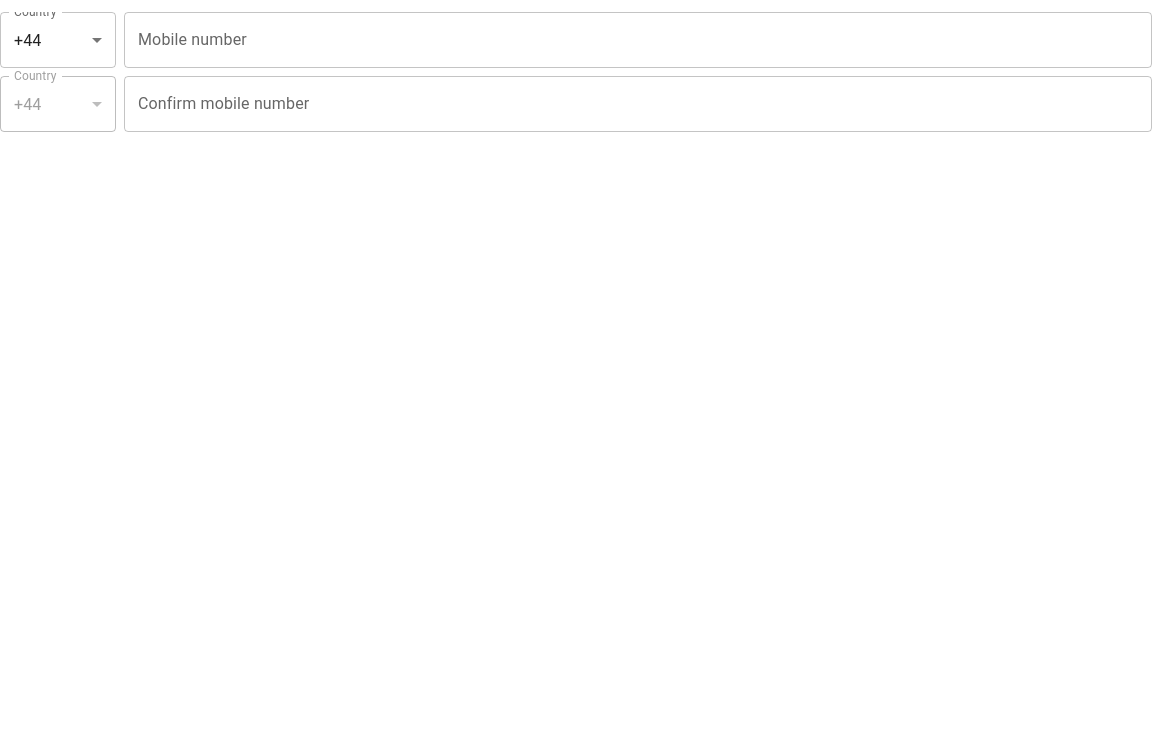
Test: PhoneField — confirm › follows a change of country code, so only the national number is retyped
This screenshot has width=1164, height=732.
Click the dropdown named "Country code for mobile number" at {"x": 28, "y": 40}, box x1=14 y1=30 x2=42 y2=50
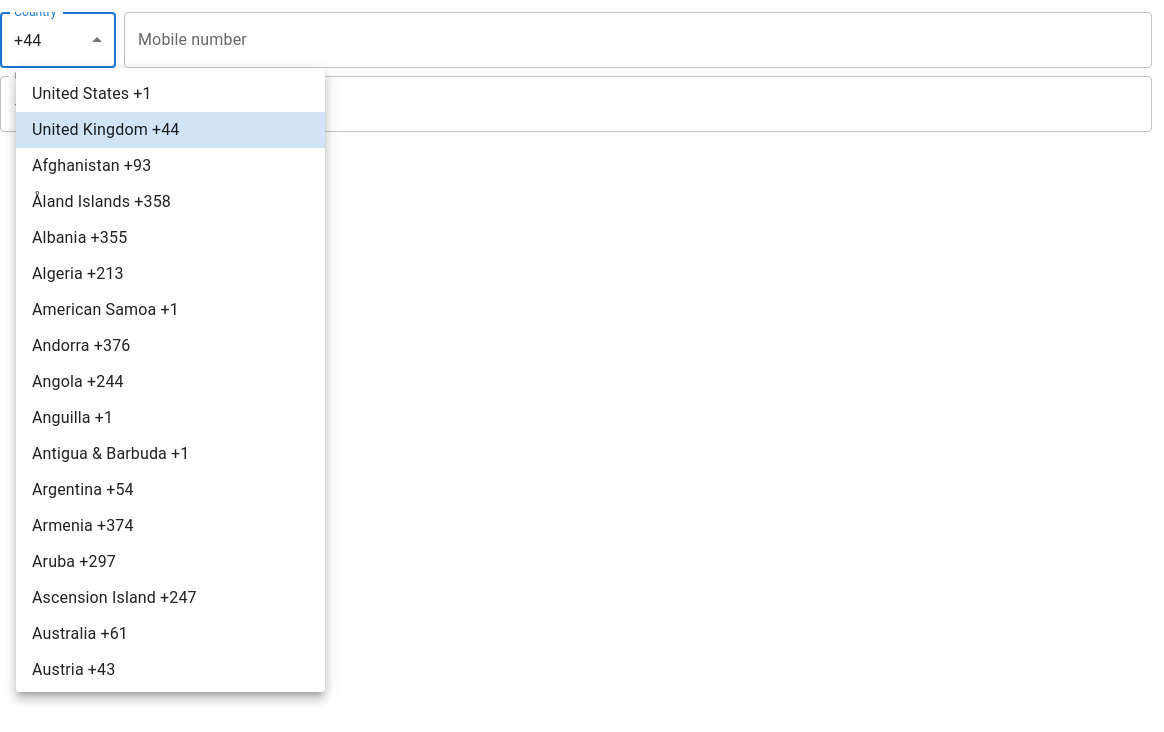
Click the option "United States +1" at {"x": 92, "y": 94}, box x1=32 y1=84 x2=152 y2=103
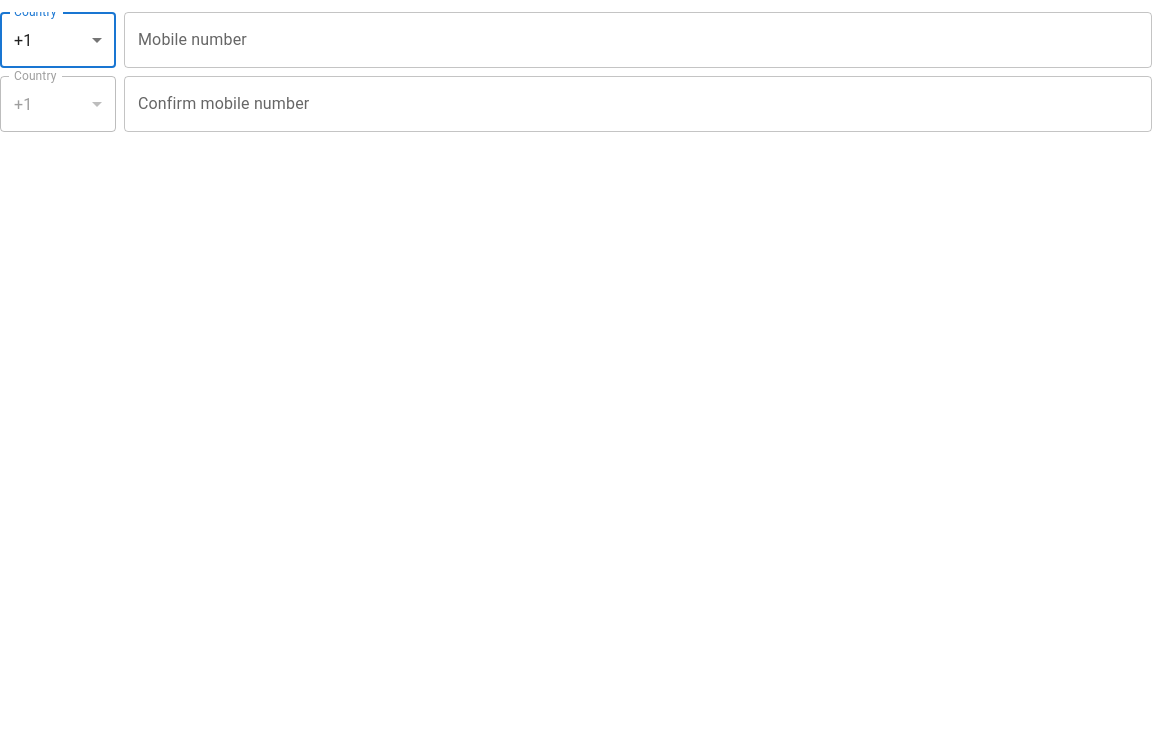
Result: the dropdown named "Country code for confirm mobile number" reads "+1" at x1=14 y1=94 x2=32 y2=114
